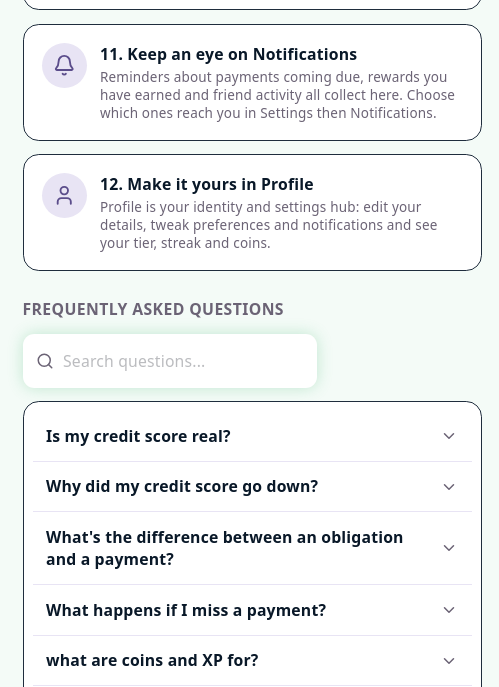
Test case: HelpPage › shows a friendly message when no questions match
The width and height of the screenshot is (499, 687).
(page scrolled)
Type "zzzz-no-match" into the field named "search frequently asked questions" at (170, 361), box [22,334,317,388]
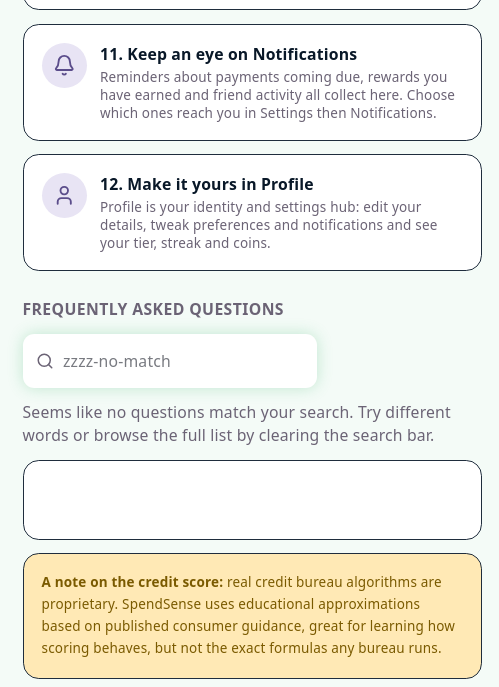
Result: the text "no questions match your search" is shown at [22,401,451,446]
